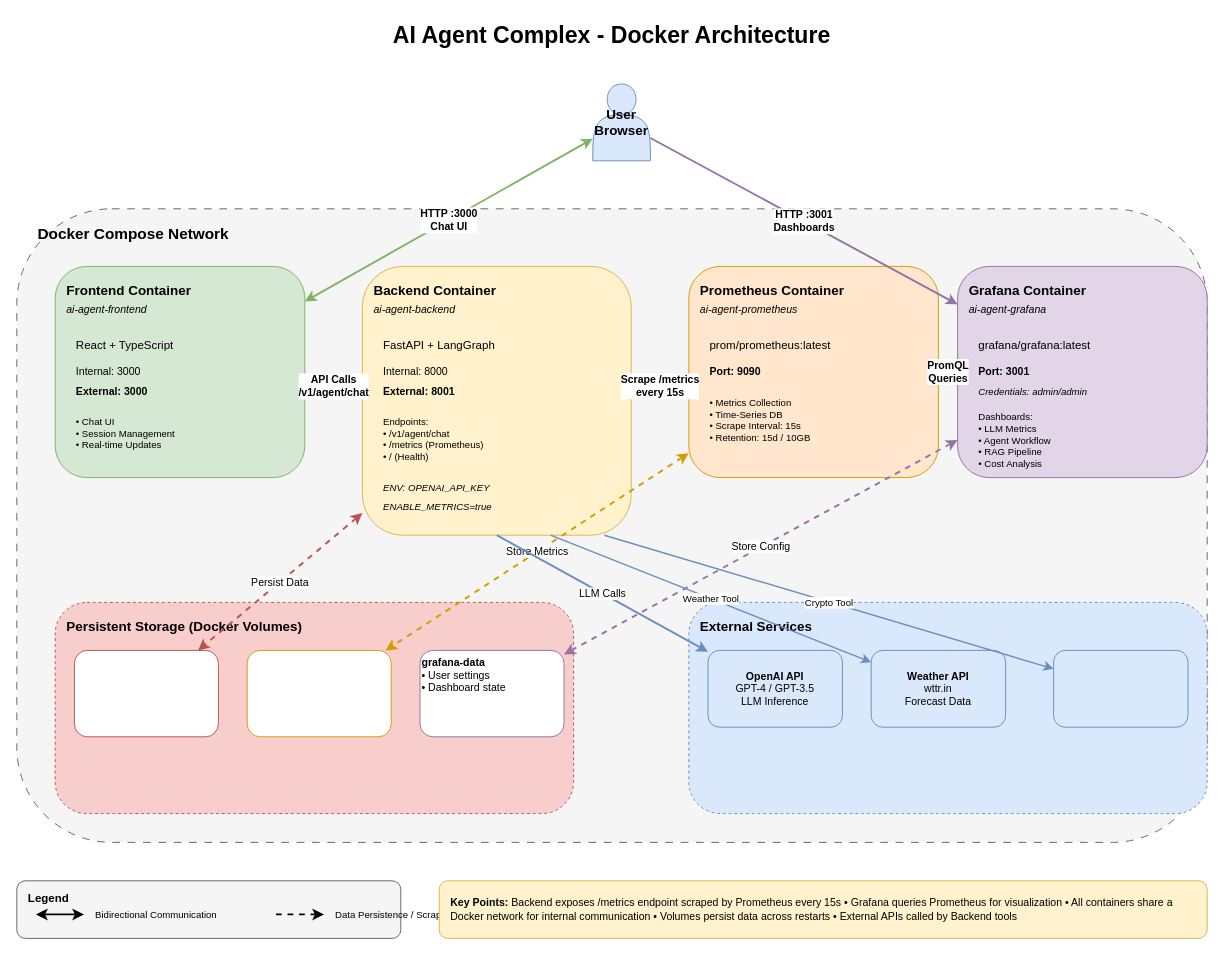
This 1224x955 diagram has some shape labels left out. The shapes that lost their labels are listed below. From the top down, each one's box as (x1, y1, x2, y2) in pixels, then its label:
(73, 649, 218, 737): ./backend/data • sessions/ • users/ • files/
(246, 649, 391, 737): prometheus-data • Time-series DB • Metrics history
(1053, 649, 1188, 727): Crypto APIs CoinGecko Price Data
